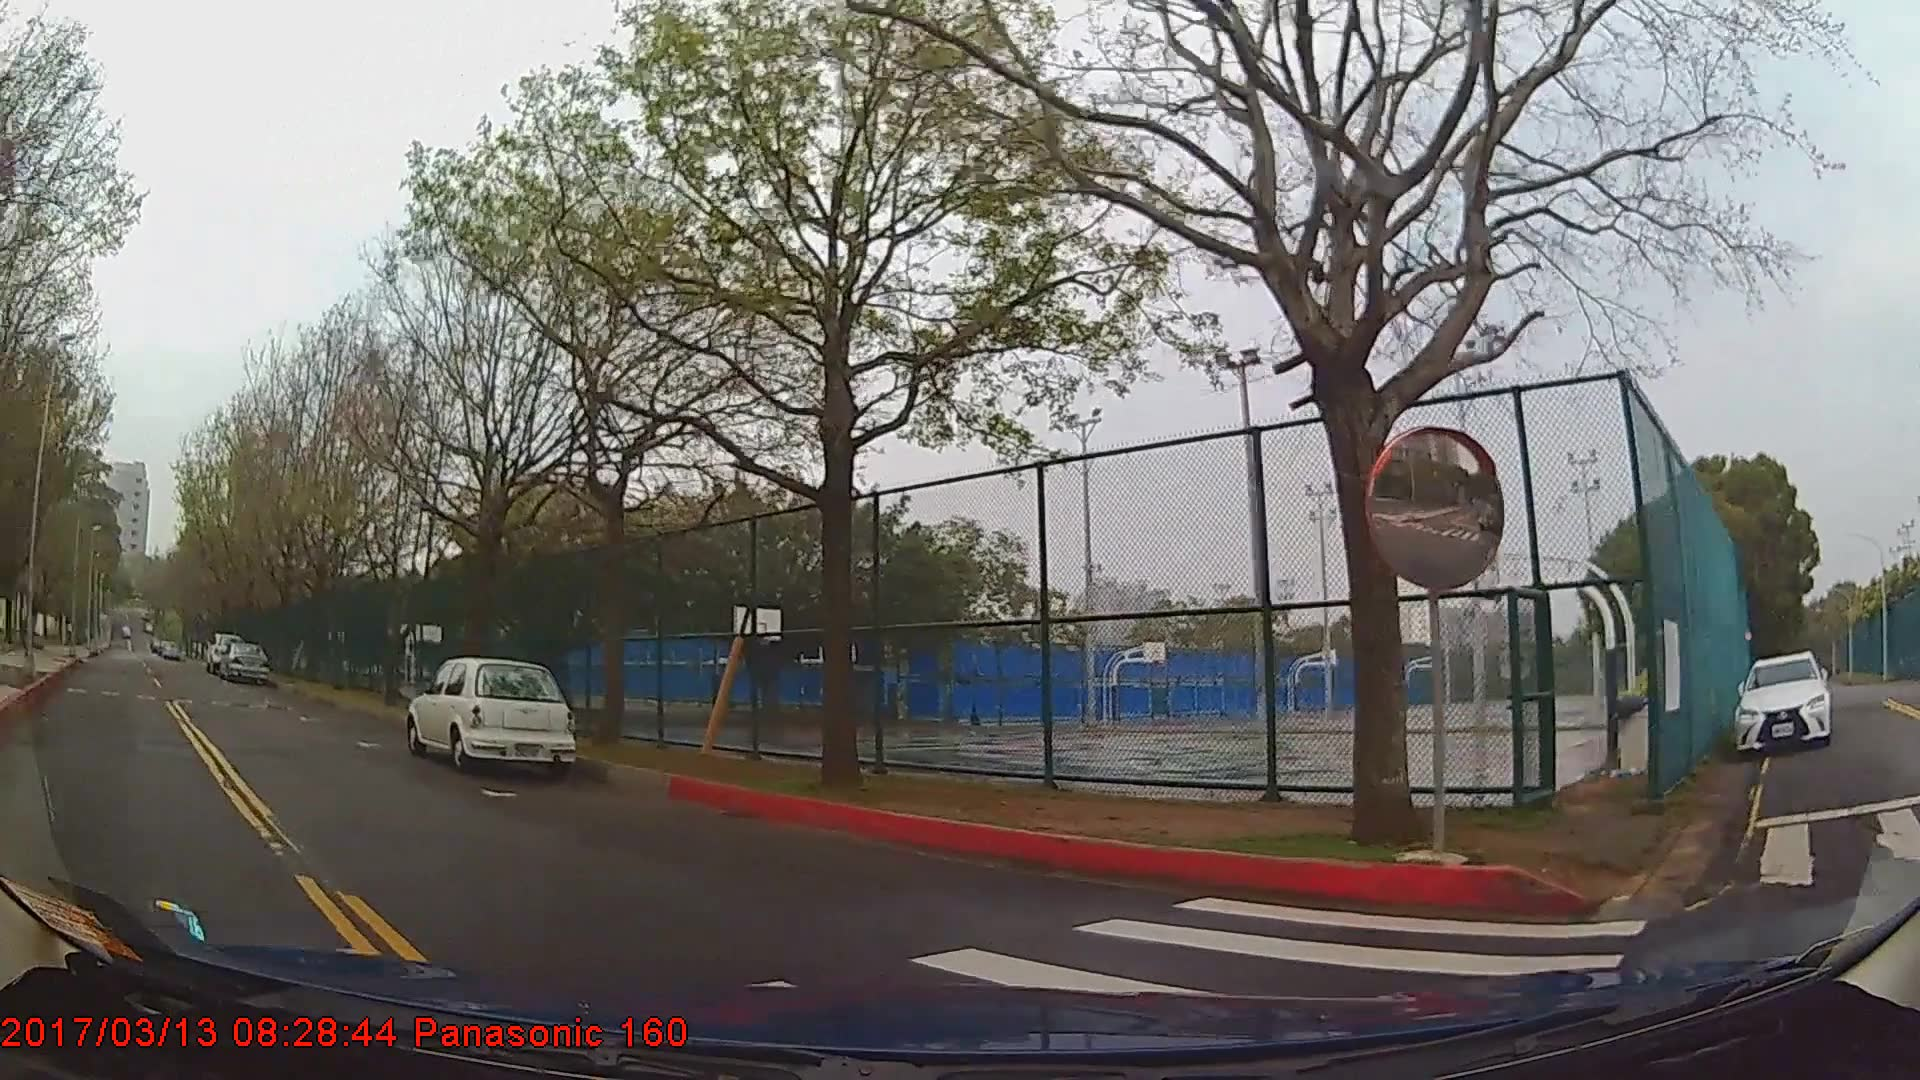vehicle: (407, 659, 578, 771), (1731, 649, 1828, 752), (222, 640, 268, 683)
